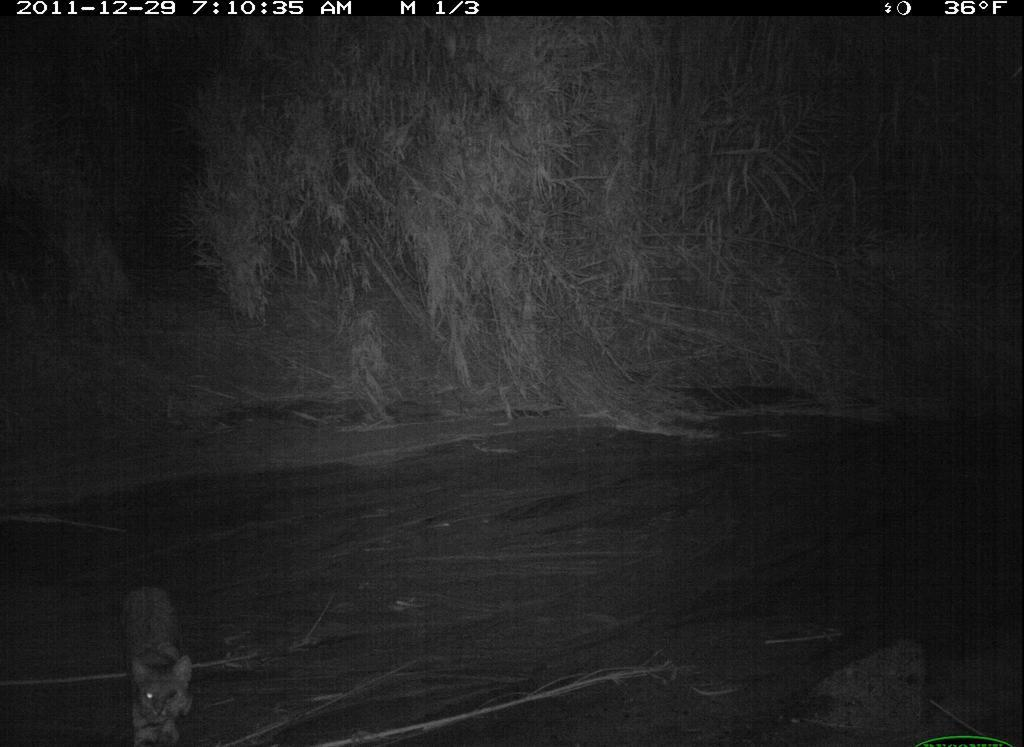bobcat: (112, 574, 213, 747)
